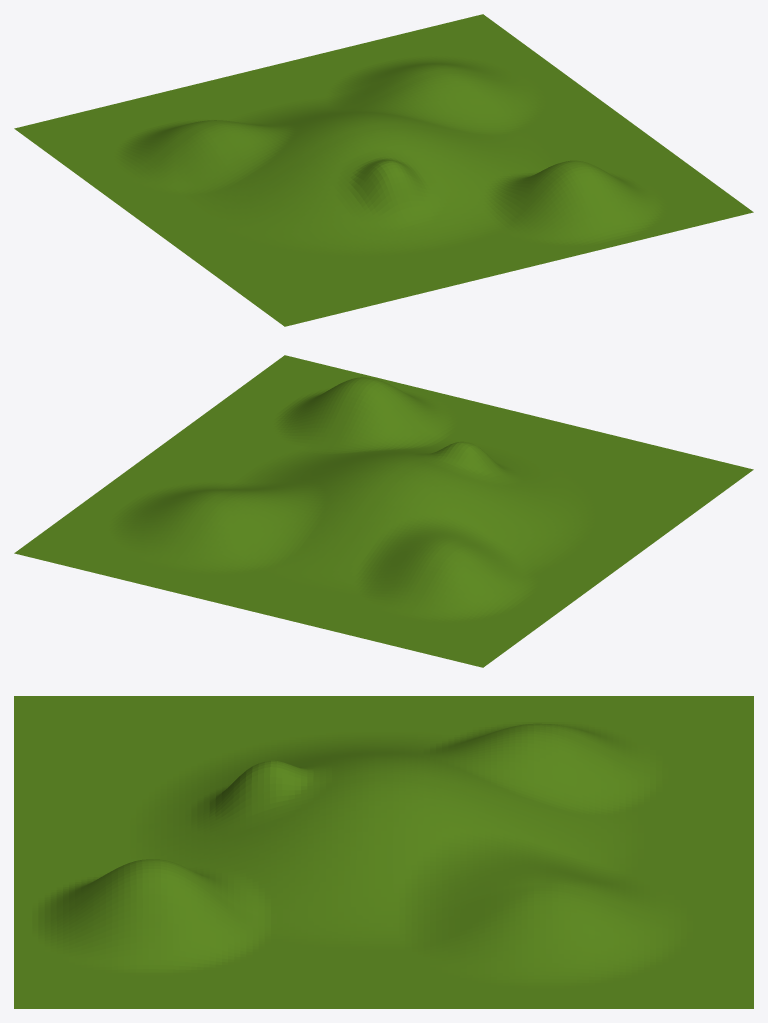
Rendered from graslandskap.fbx.
3 renders of one model, top to bottom at view 1: azimuth 30°, elevation 25°; view 2: azimuth 150°, elevation 25°; view 3: azimuth 270°, elevation 25°, orthographic. The views are drawn at different scales.
Parts seen in each view (by area): view 1: Plane; view 2: Plane; view 3: Plane.
Boxes of the visible parts, x1,y1,x2,y2 form: Plane: (14,14,753,326); Plane: (14,355,753,667); Plane: (14,696,753,1008).
Bounding box in the file's own units: 1000 × 95.55 × 1000.
